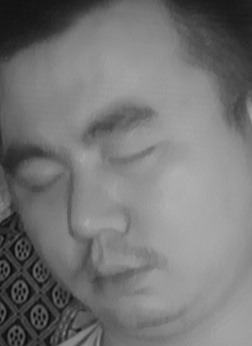blink: (107, 137, 154, 173), (21, 165, 68, 200)
mouth: (80, 245, 159, 301)
